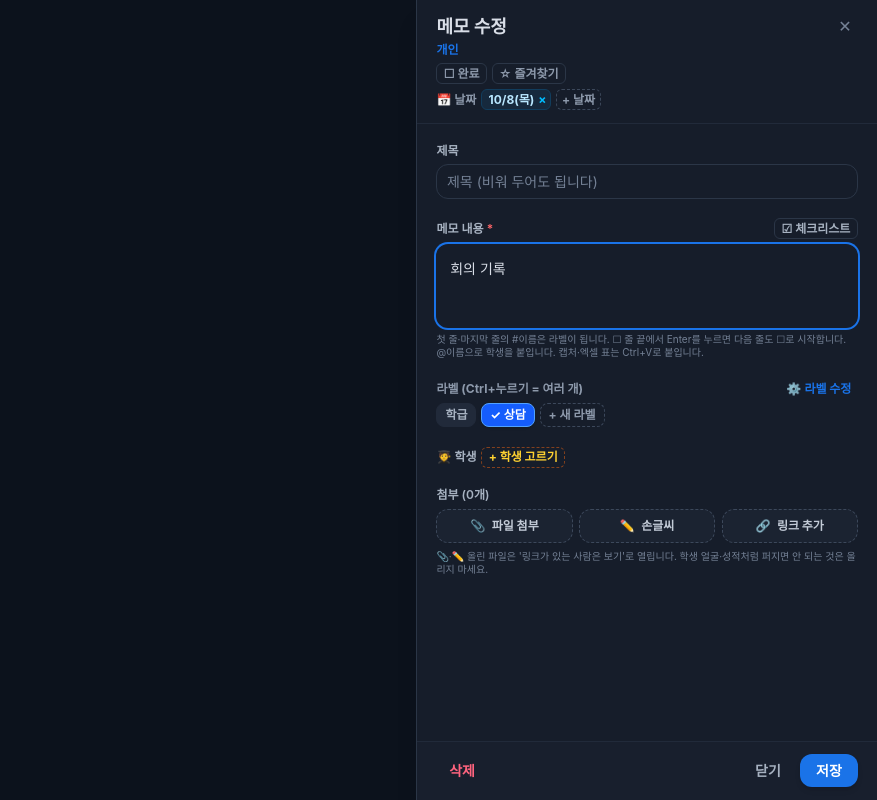
고치기 › 삭제 = 지운 표시, 지운 항목이면 안내만
Click the button "삭제". click: [462, 771]
box: [436,754,488,787]
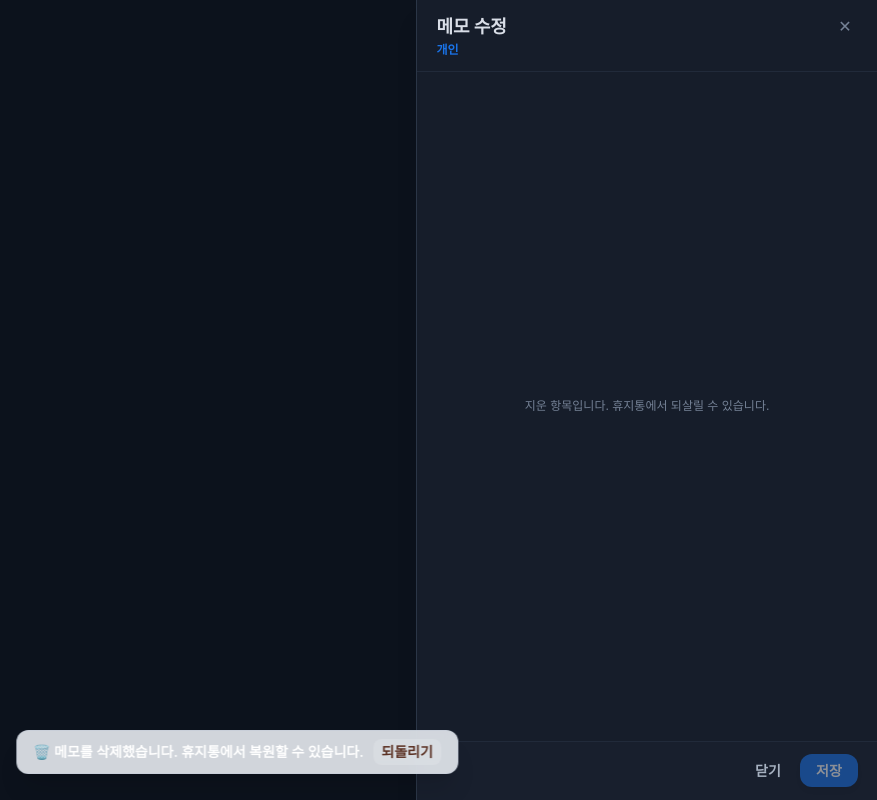
Expected: the text "지운 항목입니다. 휴지통에서 되살릴 수 있습니다." is shown, [525,398,769,413]
